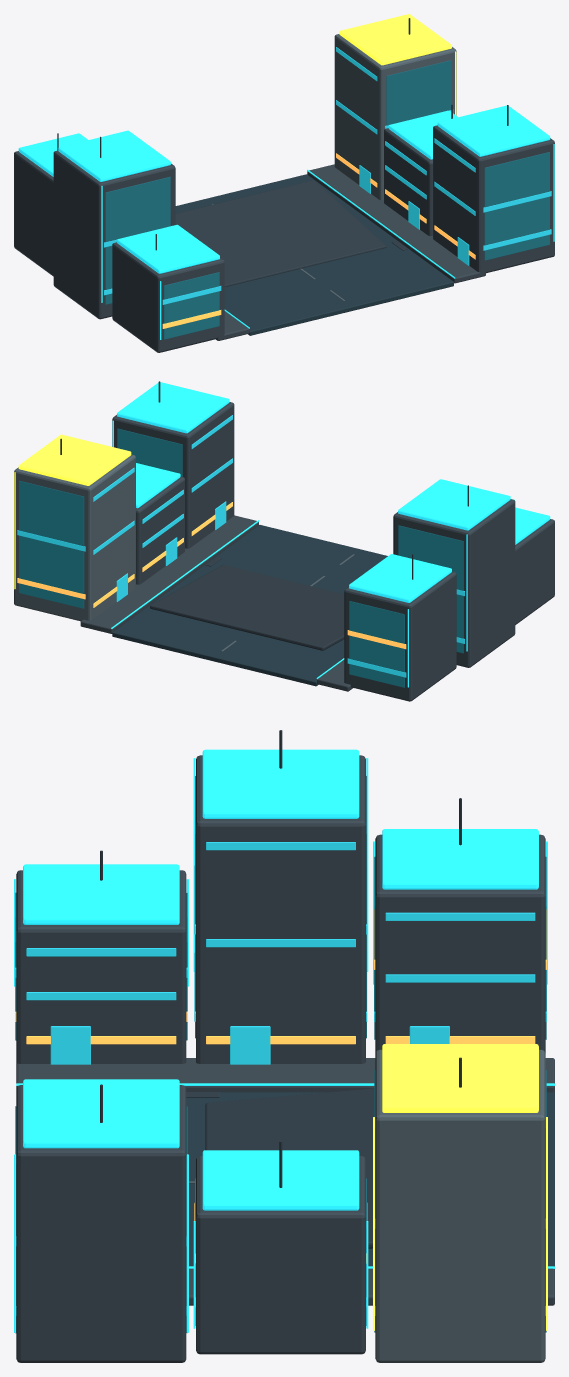
File: ramp_up_lod1.glb
3 renders of one model, top to bottom at view 1: azimuth 30°, elevation 25°; view 2: azimuth 150°, elevation 25°; view 3: azimuth 270°, elevation 25°, orthographic. The views are drawn at different scales.
Parts seen in each view (by area): view 1: ND_Batch_ND_CityConcrete, ND_Batch_ND_DarkGlass, ND_Batch_ND_CityCyanMuted, ND_Batch_ND_RooftopMetal, ND_Batch_ND_WetAsphalt, ND_Batch_ND_CityConcreteLight, ND_Batch_ND_RoadEdge, ND_Batch_ND_PackageGold, ND_Batch_ND_NeonGlass, ND_Batch_ND_WarmWindow; view 2: ND_Batch_ND_CityConcrete, ND_Batch_ND_DarkGlass, ND_Batch_ND_WetAsphalt, ND_Batch_ND_CityCyanMuted, ND_Batch_ND_RooftopMetal, ND_Batch_ND_CityConcreteLight, ND_Batch_ND_RoadEdge, ND_Batch_ND_PackageGold, ND_Batch_ND_NeonGlass, ND_Batch_ND_WarmWindow; view 3: ND_Batch_ND_CityConcrete, ND_Batch_ND_CityCyanMuted, ND_Batch_ND_CityConcreteLight, ND_Batch_ND_NeonGlass, ND_Batch_ND_PackageGold, ND_Batch_ND_RooftopMetal, ND_Batch_ND_RoadEdge, ND_Batch_ND_WetAsphalt, ND_Batch_ND_WarmWindow, ND_Batch_ND_DarkGlass.
Boxes of the visible parts, left/top/right/bottom form: ND_Batch_ND_CityConcrete: left=14, top=125, right=554, bottom=352; ND_Batch_ND_DarkGlass: left=105, top=60, right=549, bottom=339; ND_Batch_ND_CityCyanMuted: left=18, top=105, right=554, bottom=339; ND_Batch_ND_RooftopMetal: left=57, top=18, right=508, bottom=286; ND_Batch_ND_WetAsphalt: left=175, top=174, right=453, bottom=335; ND_Batch_ND_CityConcreteLight: left=211, top=34, right=456, bottom=300; ND_Batch_ND_RoadEdge: left=216, top=164, right=485, bottom=340; ND_Batch_ND_PackageGold: left=339, top=14, right=456, bottom=115; ND_Batch_ND_NeonGlass: left=104, top=47, right=551, bottom=304; ND_Batch_ND_WarmWindow: left=162, top=153, right=475, bottom=328; ND_Batch_ND_CityConcrete: left=112, top=402, right=554, bottom=701; ND_Batch_ND_DarkGlass: left=19, top=428, right=463, bottom=687; ND_Batch_ND_WetAsphalt: left=112, top=525, right=387, bottom=686; ND_Batch_ND_CityCyanMuted: left=111, top=382, right=550, bottom=687; ND_Batch_ND_RooftopMetal: left=60, top=381, right=468, bottom=650; ND_Batch_ND_CityConcreteLight: left=14, top=454, right=354, bottom=651; ND_Batch_ND_RoadEdge: left=80, top=515, right=352, bottom=691; ND_Batch_ND_PackageGold: left=14, top=434, right=131, bottom=589; ND_Batch_ND_NeonGlass: left=17, top=415, right=464, bottom=677; ND_Batch_ND_WarmWindow: left=17, top=502, right=406, bottom=649; ND_Batch_ND_CityConcrete: left=16, top=755, right=545, bottom=1362; ND_Batch_ND_CityCyanMuted: left=14, top=749, right=554, bottom=1332; ND_Batch_ND_CityConcreteLight: left=189, top=1049, right=545, bottom=1362; ND_Batch_ND_NeonGlass: left=15, top=842, right=546, bottom=1315; ND_Batch_ND_PackageGold: left=373, top=1044, right=547, bottom=1330; ND_Batch_ND_RooftopMetal: left=100, top=730, right=461, bottom=1248; ND_Batch_ND_RoadEdge: left=16, top=1058, right=554, bottom=1305; ND_Batch_ND_WetAsphalt: left=186, top=1092, right=554, bottom=1269; ND_Batch_ND_WarmWindow: left=15, top=909, right=546, bottom=1315; ND_Batch_ND_DarkGlass: left=15, top=776, right=546, bottom=1333.
Size of the model in its own units: 31.9 by 12.33 by 20.09.
